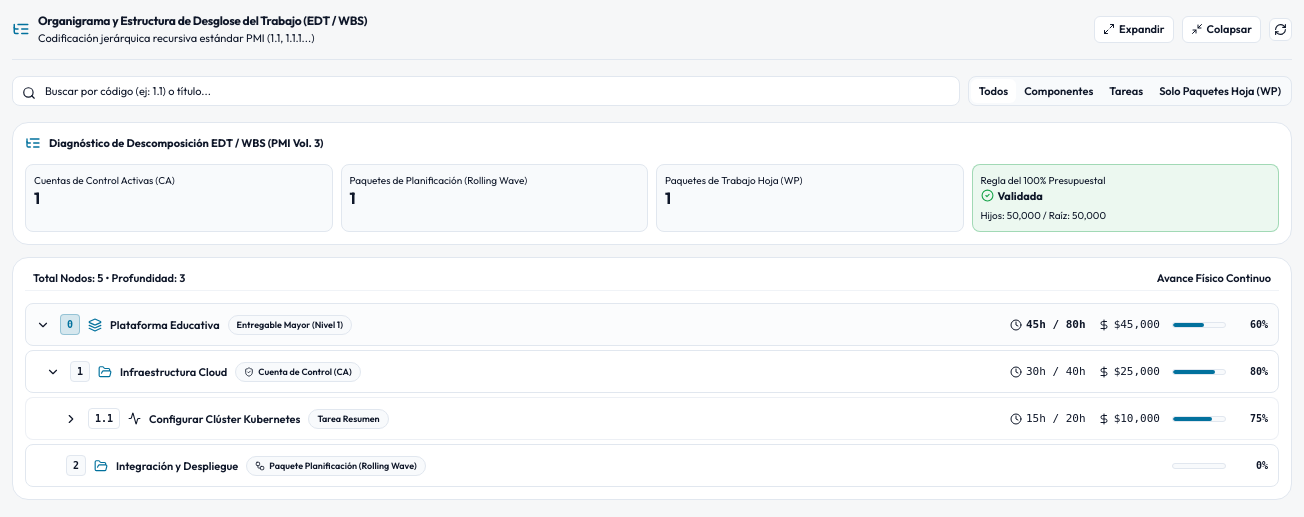
Test: ProjectWBSTreeView Component › filtra Paquetes Hoja (WP) manteniendo visible su jerarquía
Expected: the text "Configurar Clúster Kubernetes" is shown, [149,410,300,427]
Click the button "Solo Paquetes Hoja (WP)".
click(1220, 91)  # box [1151,78,1289,103]
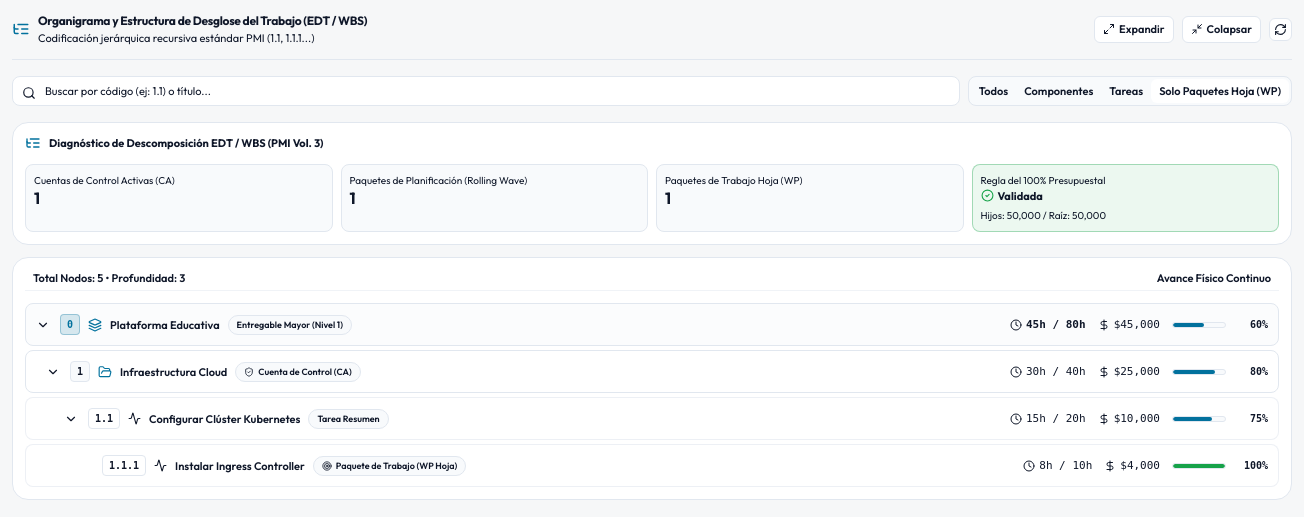
Expected: the text "Plataforma Educativa" is shown, [110,316,220,333]
Expected: the text "Instalar Ingress Controller" is shown, [175,458,305,474]
Expected: the text "Integración y Despliegue" is gone
